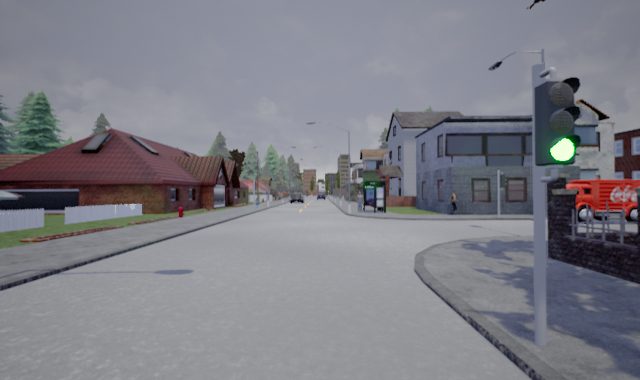pedestrian: (445, 189, 459, 215), (356, 187, 364, 213)
traffic_light: (534, 77, 581, 166)
vehicle: (542, 178, 639, 223), (287, 192, 305, 204)
